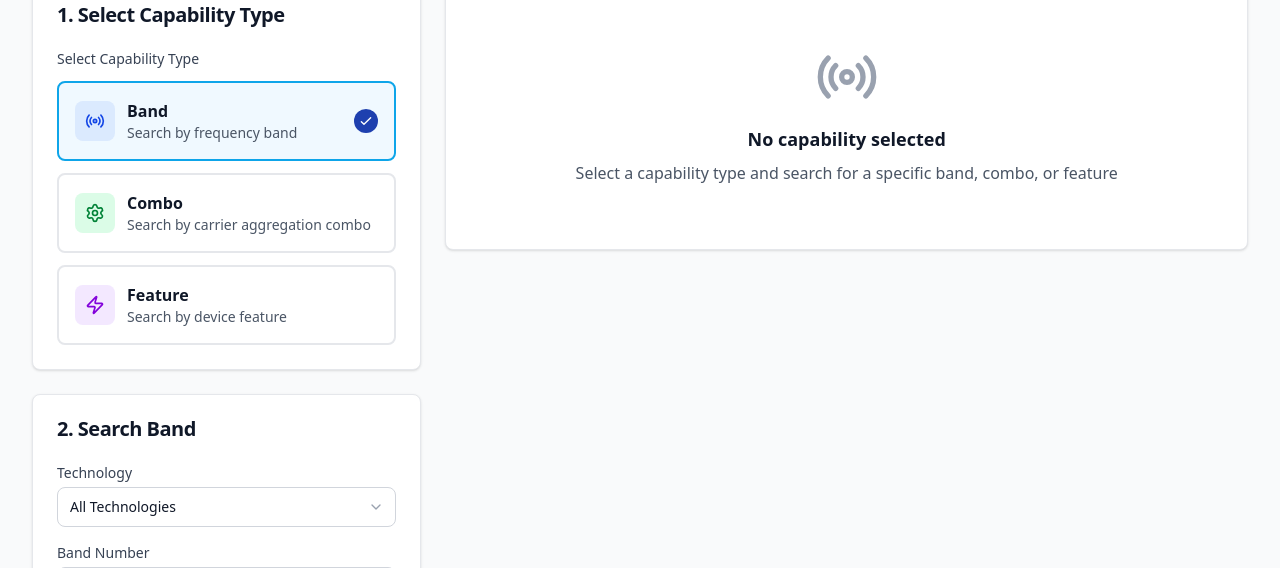
Scenario: CapabilityQueryPage › changes search component when capability type changes to Feature
Click the text "Feature" at (158, 295), box left=127, top=284, right=189, bottom=306
(page scrolled)
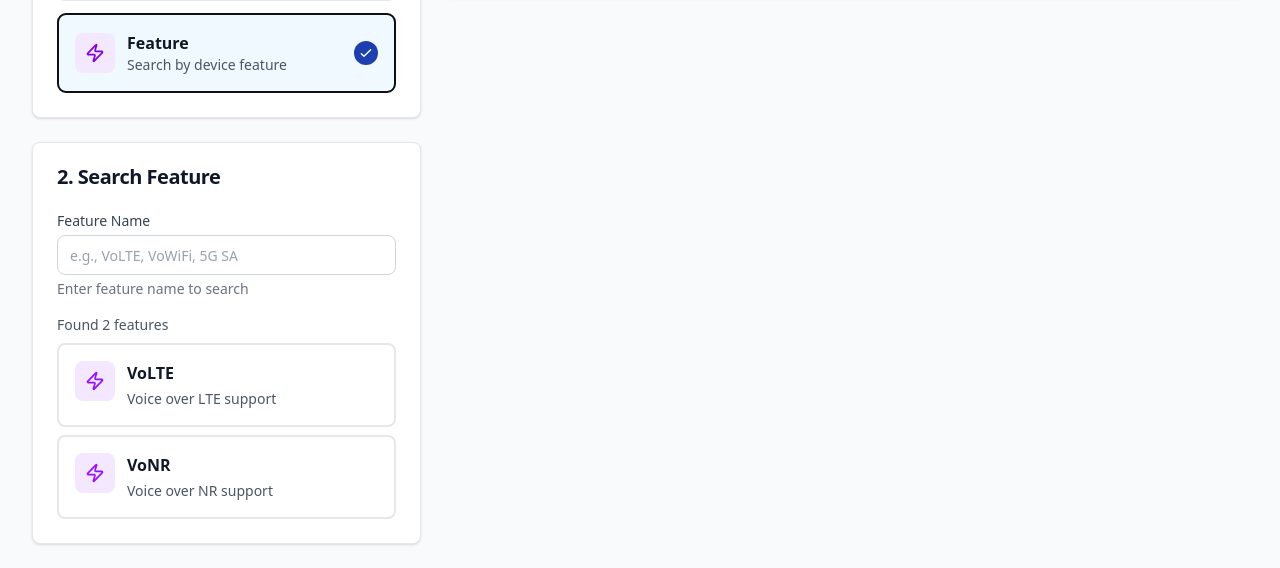
Check: the heading "2. Search Feature" is shown, box left=57, top=163, right=220, bottom=190
Check: the text "Found 2 features" is shown, box left=57, top=315, right=168, bottom=334
Check: the text "VoLTE" is shown, box left=127, top=362, right=174, bottom=384
